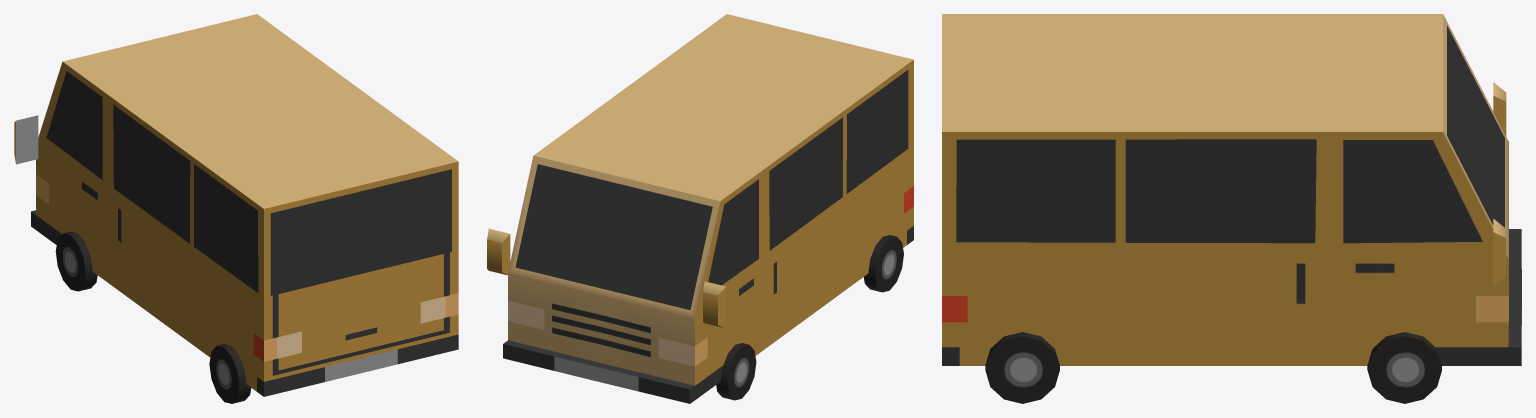
File: vanYellow.glb
The picture shows the model from 3 angles, left to right: view 1: azimuth 30°, elevation 25°; view 2: azimuth 150°, elevation 25°; view 3: azimuth 270°, elevation 25°; orthographic projection. The views are drawn at different scales.
Visible parts, largest first — view 1: family_van_yellow_prefab; view 2: family_van_yellow_prefab; view 3: family_van_yellow_prefab.
Part boxes in pixels (x1=…): family_van_yellow_prefab: x1=14, y1=14, x2=458, y2=403; family_van_yellow_prefab: x1=487, y1=14, x2=913, y2=403; family_van_yellow_prefab: x1=942, y1=14, x2=1521, y2=403.
Size of the model in its own units: 3.44 by 2.86 by 5.62.
1 material, 1 textured.
